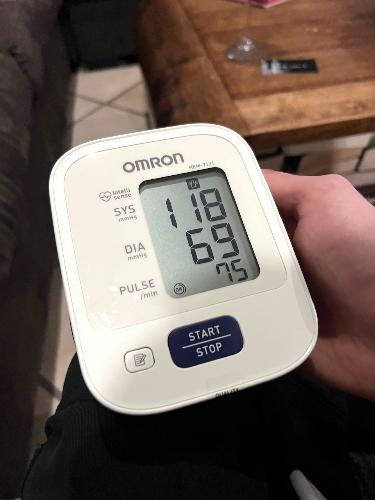bpm: (134, 156, 268, 310)
